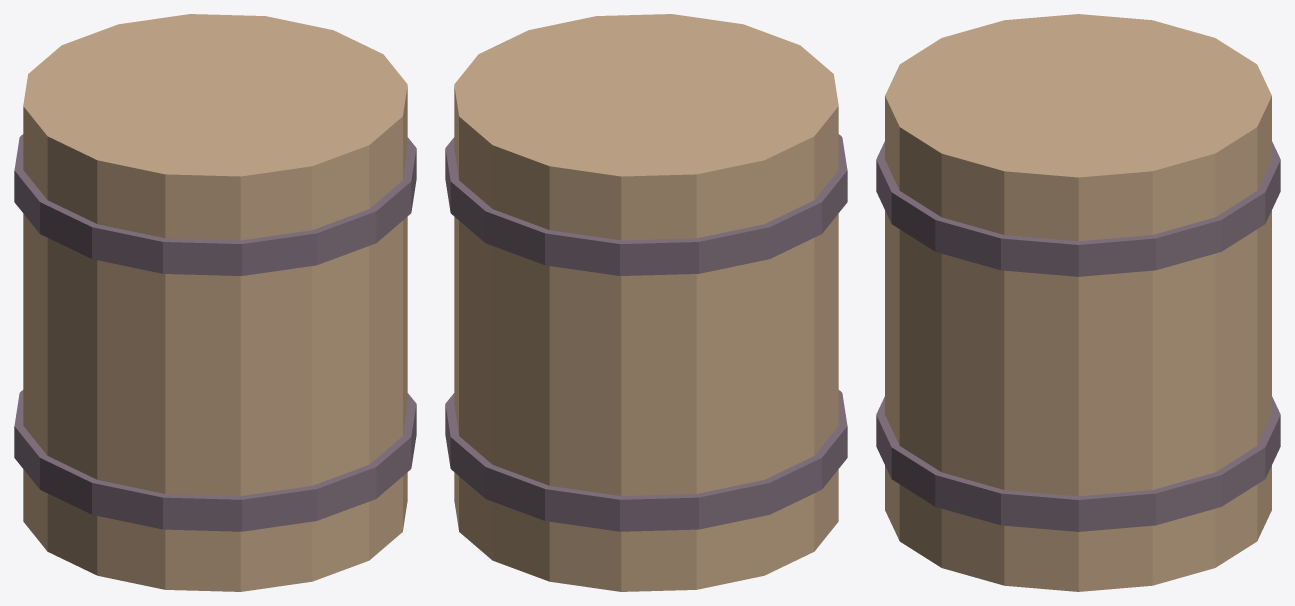
The model's file is Barrel.glb.
3 renders of one model, left to right at view 1: azimuth 30°, elevation 25°; view 2: azimuth 150°, elevation 25°; view 3: azimuth 270°, elevation 25°, orthographic.
Visible parts, largest first — view 1: Barrel_1, Barrel_0; view 2: Barrel_1, Barrel_0; view 3: Barrel_1, Barrel_0.
Part boxes in pixels (x1,y1,x2,y2): Barrel_1: (23,14,407,591); Barrel_0: (14,134,416,531); Barrel_1: (454,14,838,591); Barrel_0: (445,134,847,531); Barrel_1: (885,14,1271,591); Barrel_0: (876,141,1280,531).
Bounding box in the file's own units: 2.3 × 2.6 × 2.3.
